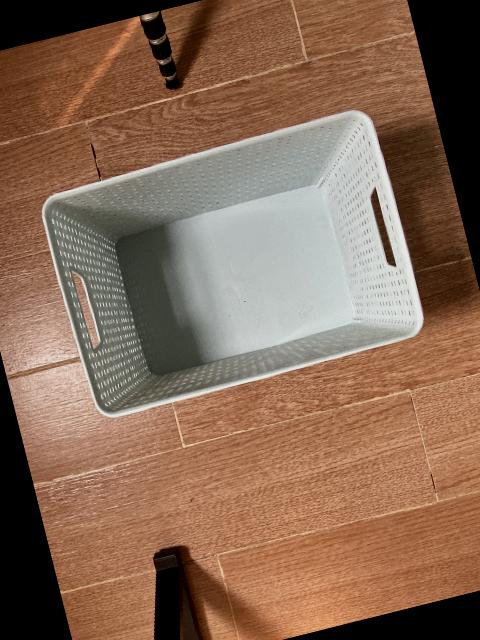cart: (42, 110, 425, 419)
